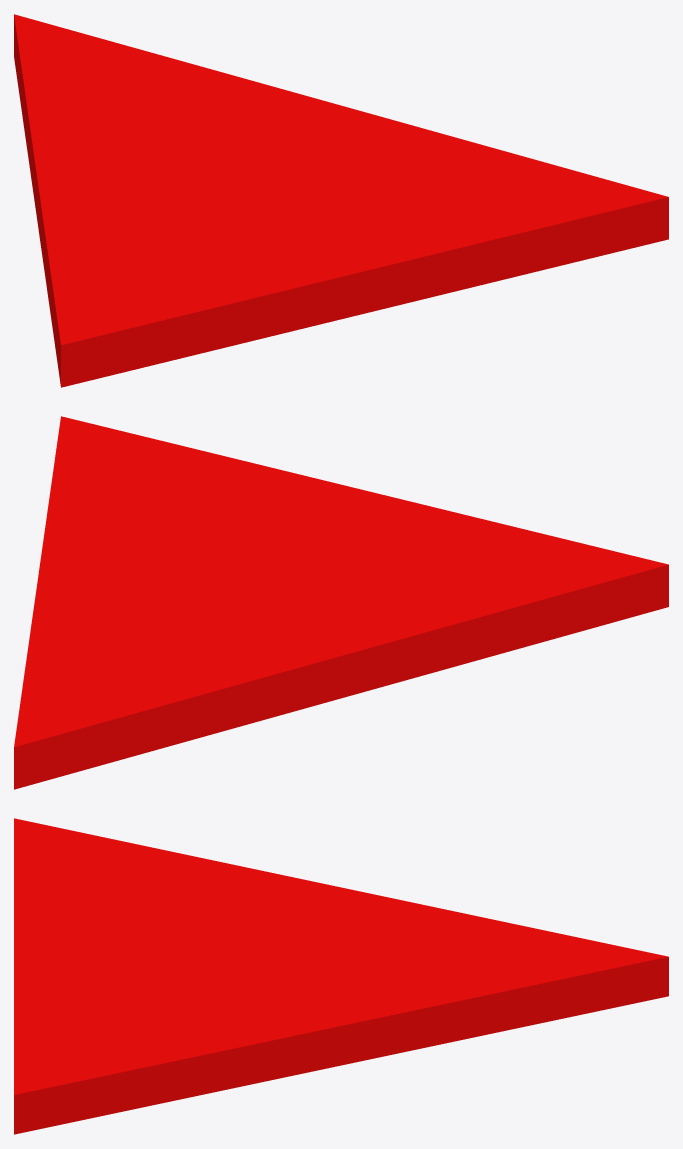
File: ShipTrackerModel.fbx
3 views of the same model, one above another, from view 1: azimuth 30°, elevation 25°; view 2: azimuth 150°, elevation 25°; view 3: azimuth 270°, elevation 25° (orthographic). The views are drawn at different scales.
Parts seen in each view (by area): view 1: Polygon; view 2: Polygon; view 3: Polygon.
Part boxes in pixels (<box>): Polygon: <box>14,14,668,387</box>; Polygon: <box>14,416,668,789</box>; Polygon: <box>14,818,668,1134</box>.
Size of the model in its own units: 450 by 30 by 450.
